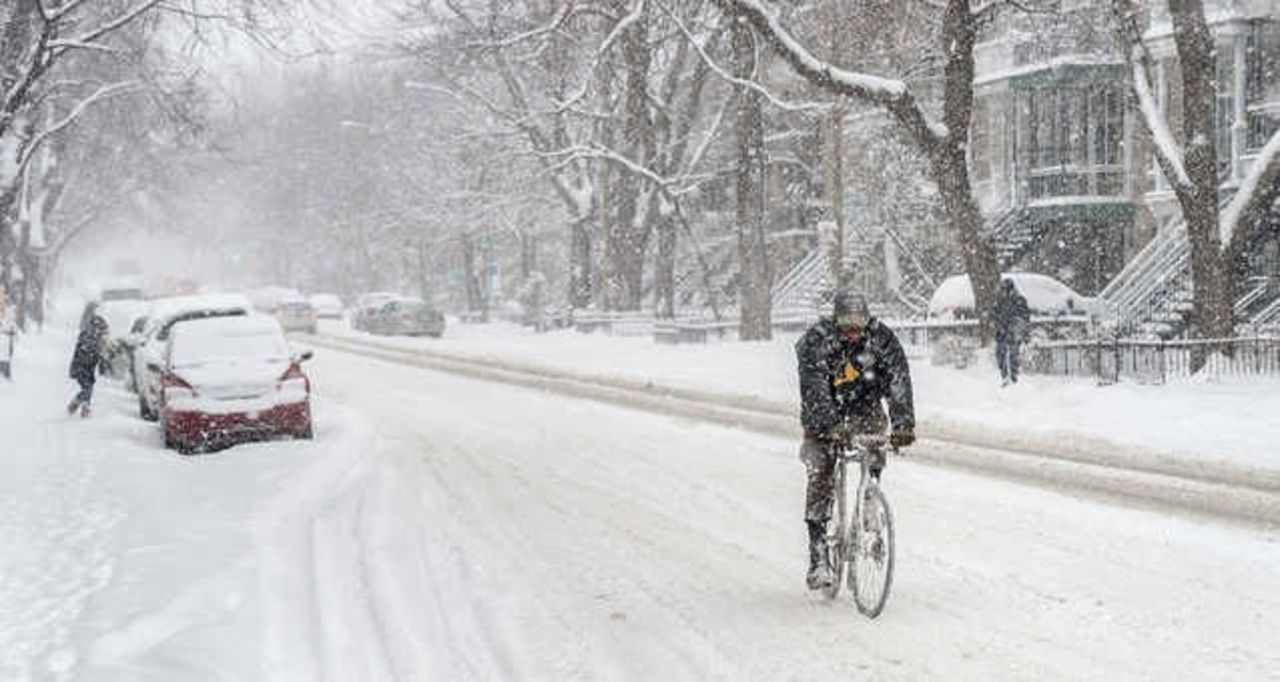bicycle: (807, 425, 917, 617)
car: (146, 311, 313, 451), (118, 298, 260, 424), (355, 295, 447, 338), (271, 297, 320, 327), (311, 290, 346, 324)
person: (794, 298, 915, 591), (985, 272, 1026, 384), (66, 316, 104, 420)
